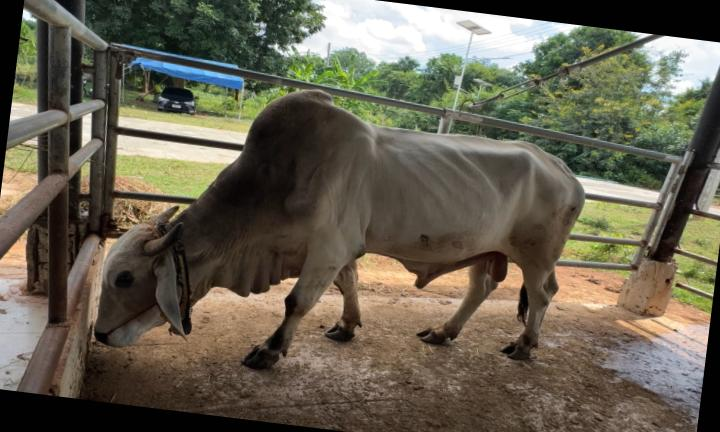Brahman: (95, 90, 584, 368)
